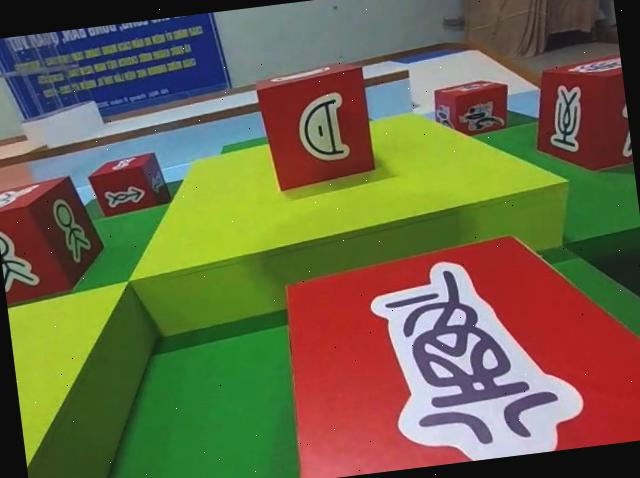R1: (427, 71, 516, 143)
R2 Fake: (268, 216, 640, 478), (524, 52, 634, 180)
R2 Real: (252, 57, 376, 193), (0, 166, 113, 306), (84, 148, 175, 222)
